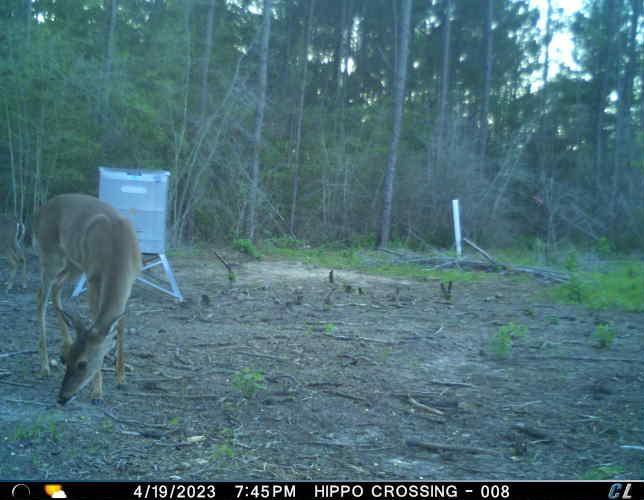Deer: (29, 191, 143, 409), (0, 208, 29, 294)
